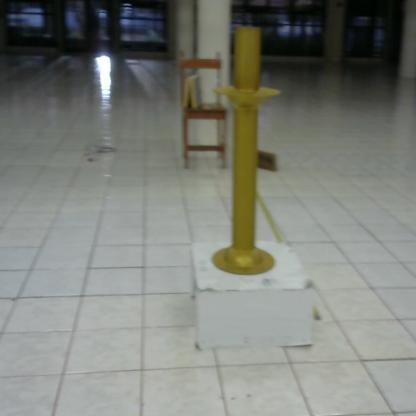pole: (205, 18, 288, 278)
